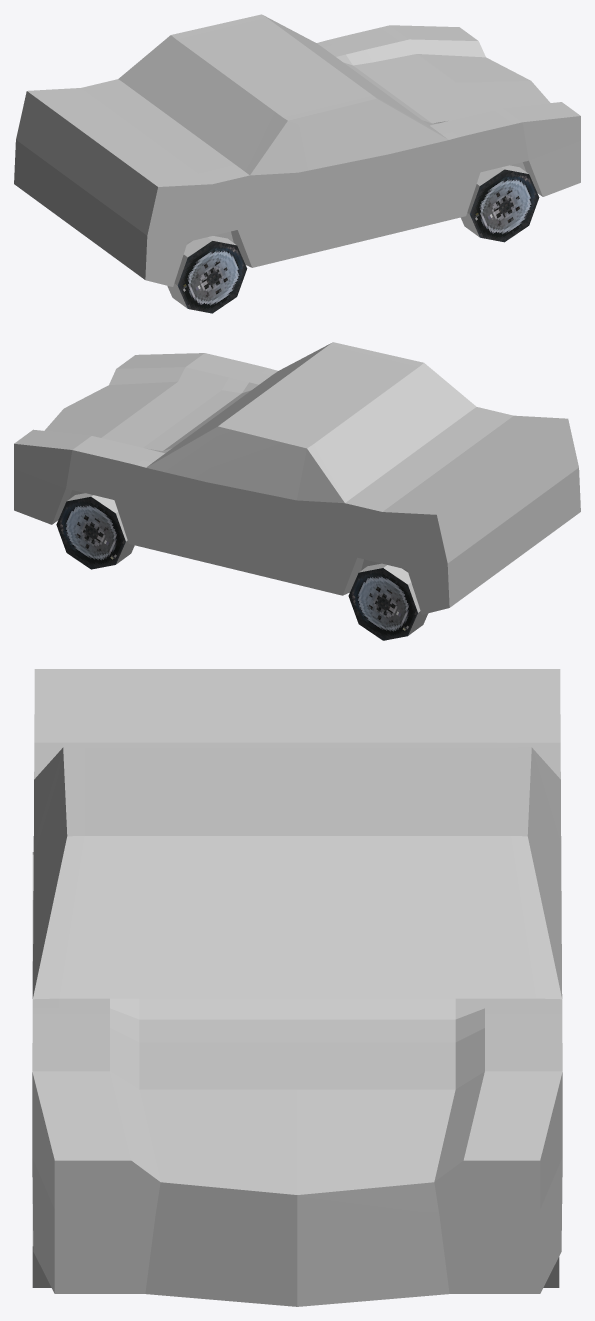
The model's file is Player.fbx.
The picture shows the model from 3 angles, top to bottom: view 1: azimuth 30°, elevation 25°; view 2: azimuth 150°, elevation 25°; view 3: azimuth 270°, elevation 25°; orthographic projection. The views are drawn at different scales.
Visible parts, largest first — view 1: Cube.011, Cylinder.007, Cylinder.004; view 2: Cube.011, Cylinder.006, Wheel; view 3: Cube.011.
Boxes of the visible parts, bbox=[...] form: Cube.011: bbox=[14, 14, 580, 286]; Cylinder.007: bbox=[167, 236, 247, 313]; Cylinder.004: bbox=[460, 165, 539, 242]; Cube.011: bbox=[14, 342, 580, 614]; Cylinder.006: bbox=[348, 563, 428, 640]; Wheel: bbox=[56, 493, 134, 569]; Cube.011: bbox=[32, 669, 562, 1306].
Size of the model in its own units: 264 by 183 by 519.
